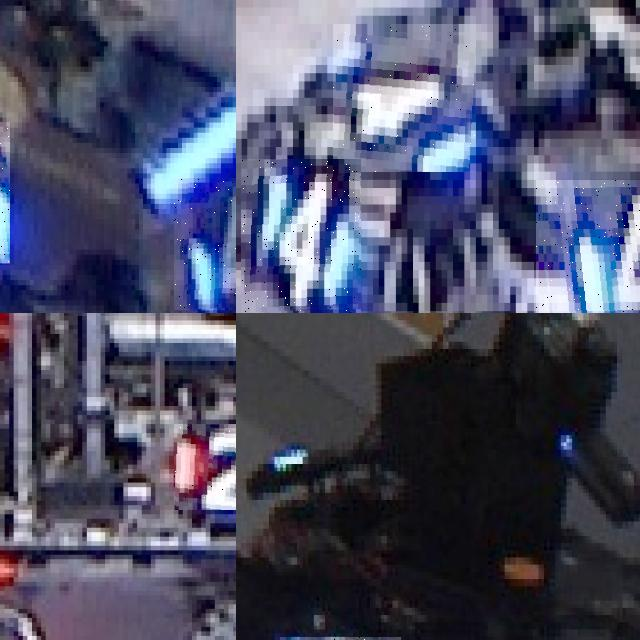B4: (333, 24, 476, 172), (241, 159, 361, 313), (535, 180, 640, 313), (174, 178, 236, 310)
R2: (173, 424, 236, 509)
